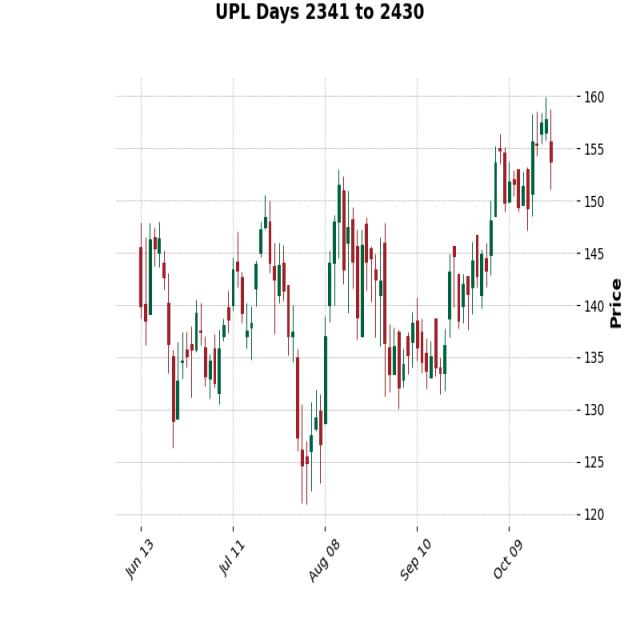flag-and-pole: (302, 156, 454, 485)
